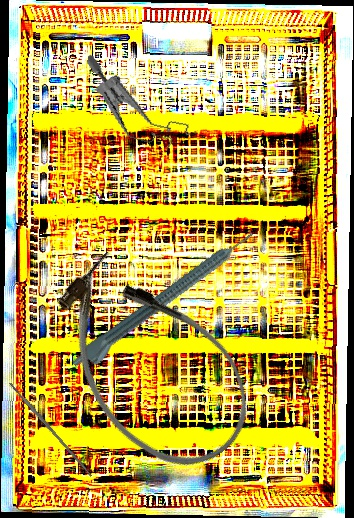Cannula: (25, 230, 277, 496)
Handpiece: (68, 227, 263, 378)
Scalpel Handle: (8, 381, 94, 478)
Speculum: (69, 53, 204, 156)
